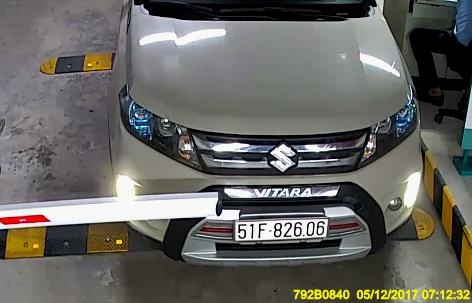plate: (231, 215, 330, 240)
